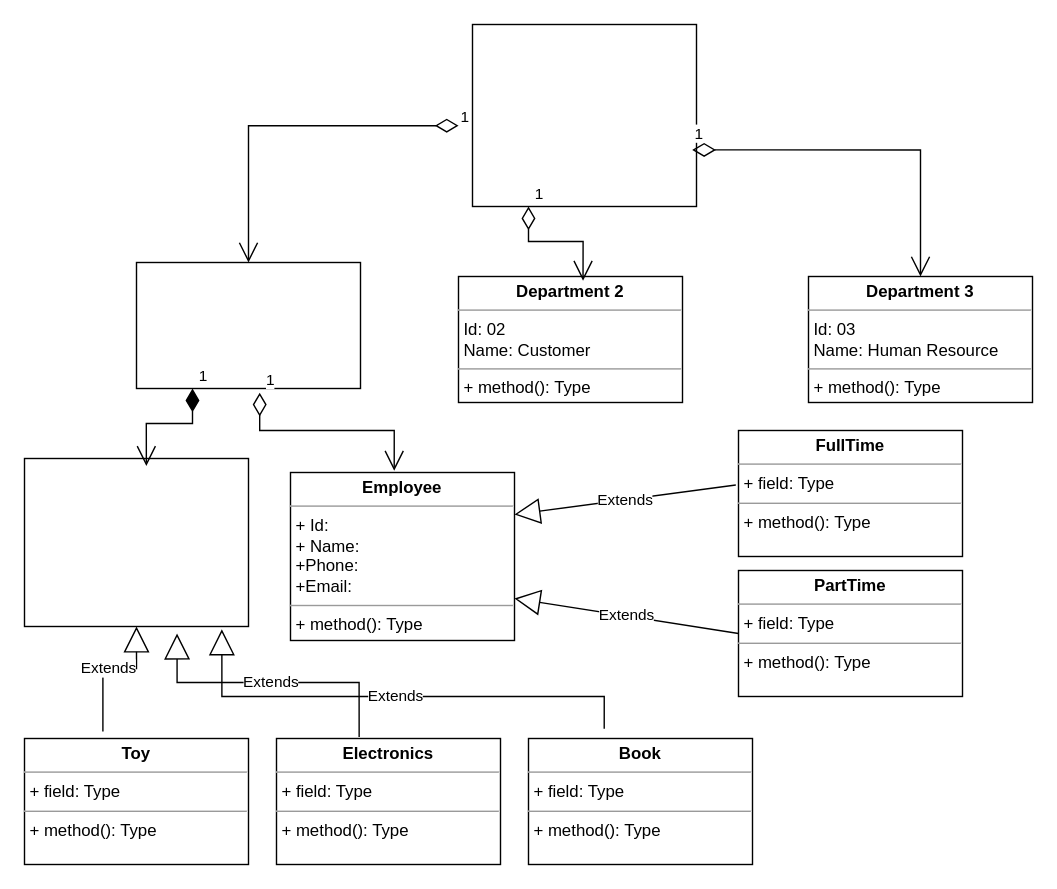
The diagram is 1057 pixels wide and 889 high, and some of its shapes have lost their labels. Here are the shapes that lost their labels. From the top down, the centre of each, then its label:
the point at 583,114: Store id: Name: Address: Phone: + method(): Type
the point at 247,324: Department 1 Id: 01 Name:Retail + method(): Type
the point at 135,541: Product + Id: +name: +Price: +Qty: + method(): Type
